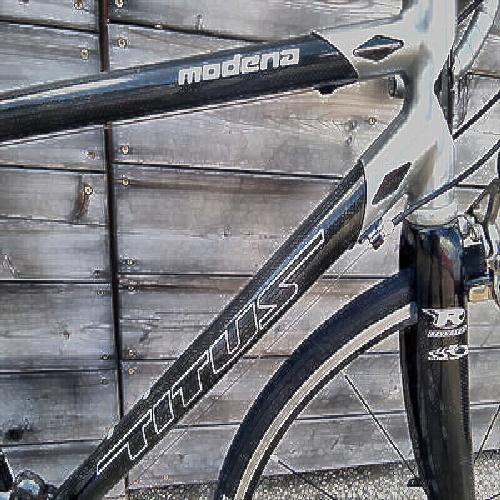bicycle: (27, 39, 494, 472)
